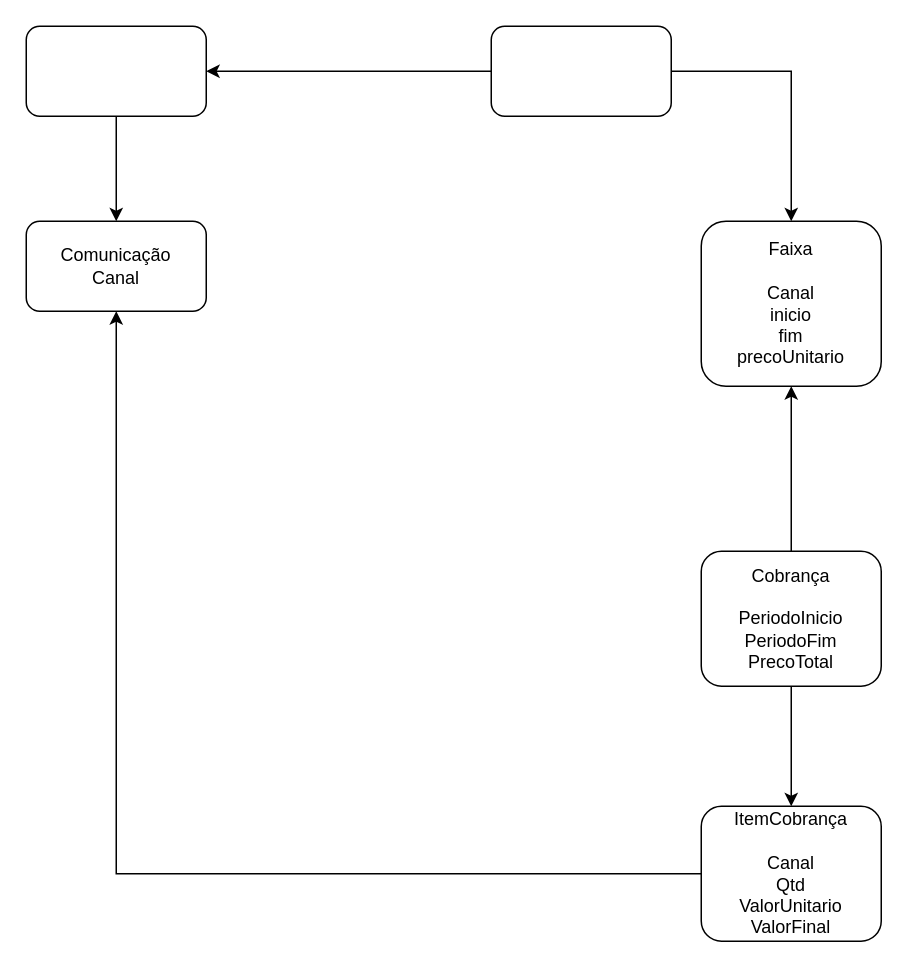
Image size: 908x968. Some labels were removed from this diagram. The shapes that lost their labels are listed below. From the top down, each one's centre as x and y in pixels, then its label:
the point at 115,70: Mailing Empresa
the point at 580,70: Empresa
